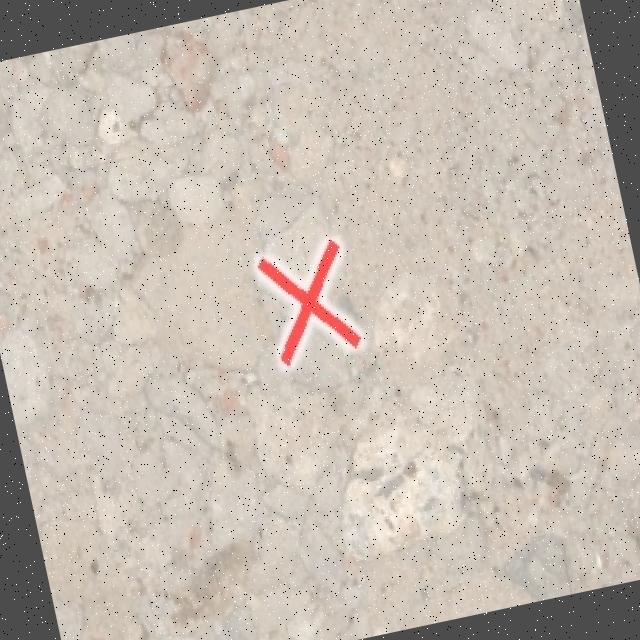x_marker: (255, 238, 362, 366)
